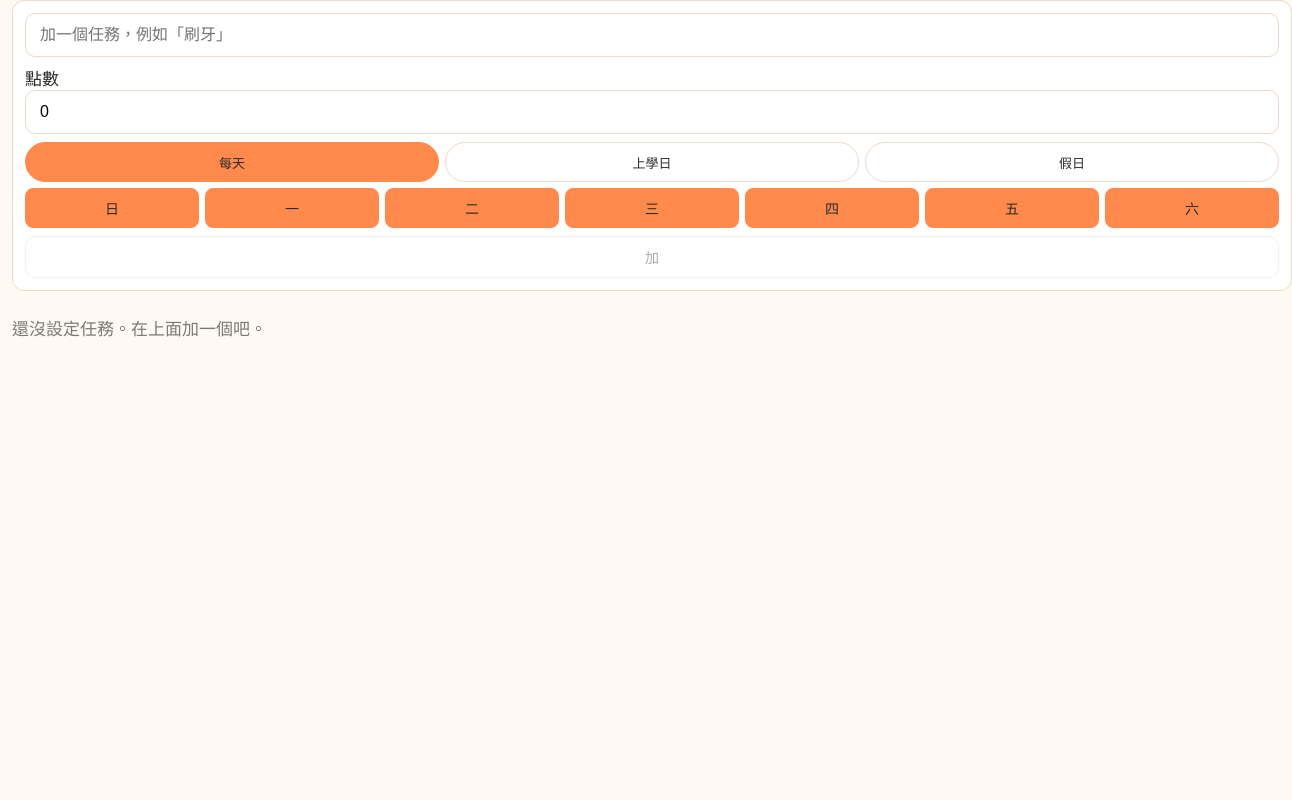
Scenario: TasksPage › adds, edits, and deletes a task (default every-day schedule)
Type "刷牙" into the field named "新任務" at x=652, y=35, box [25,13,1279,57]
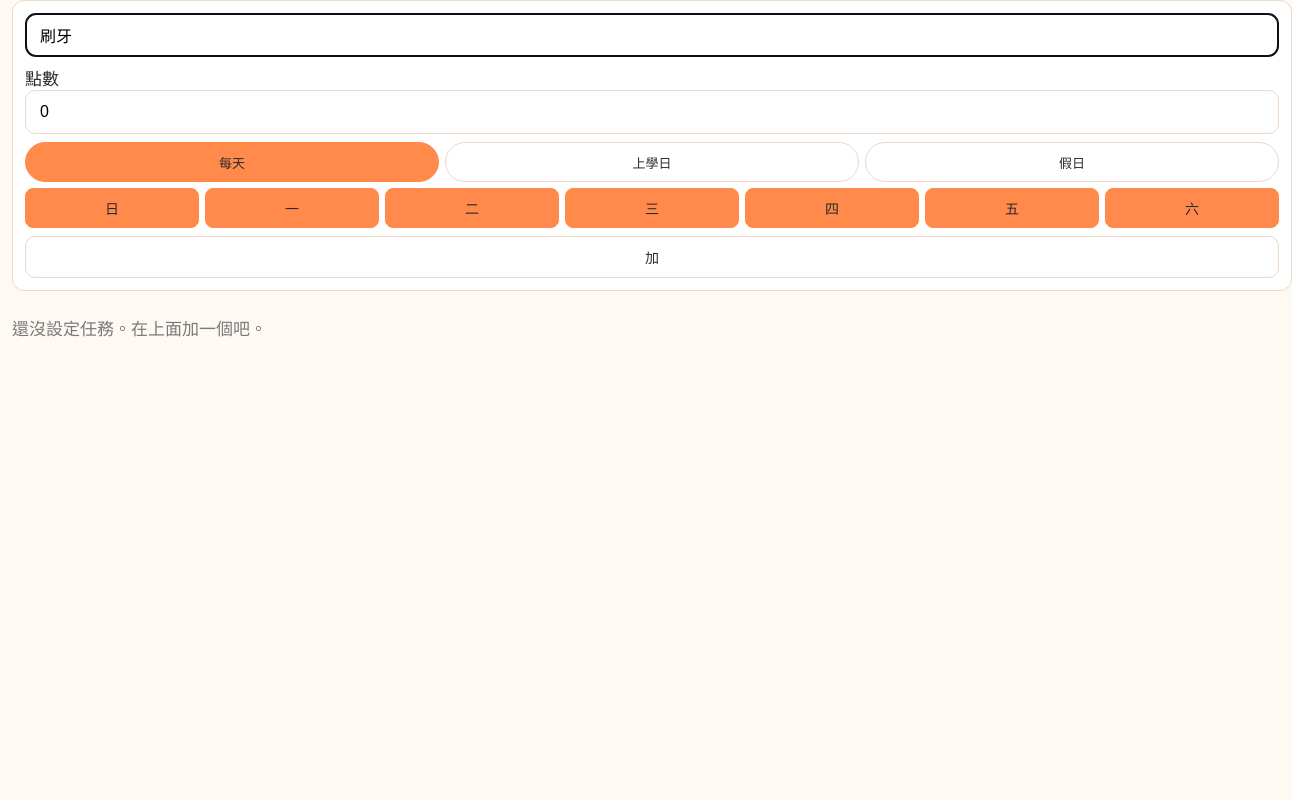
Click the button "加" at x=652, y=257, box [25,236,1279,278]
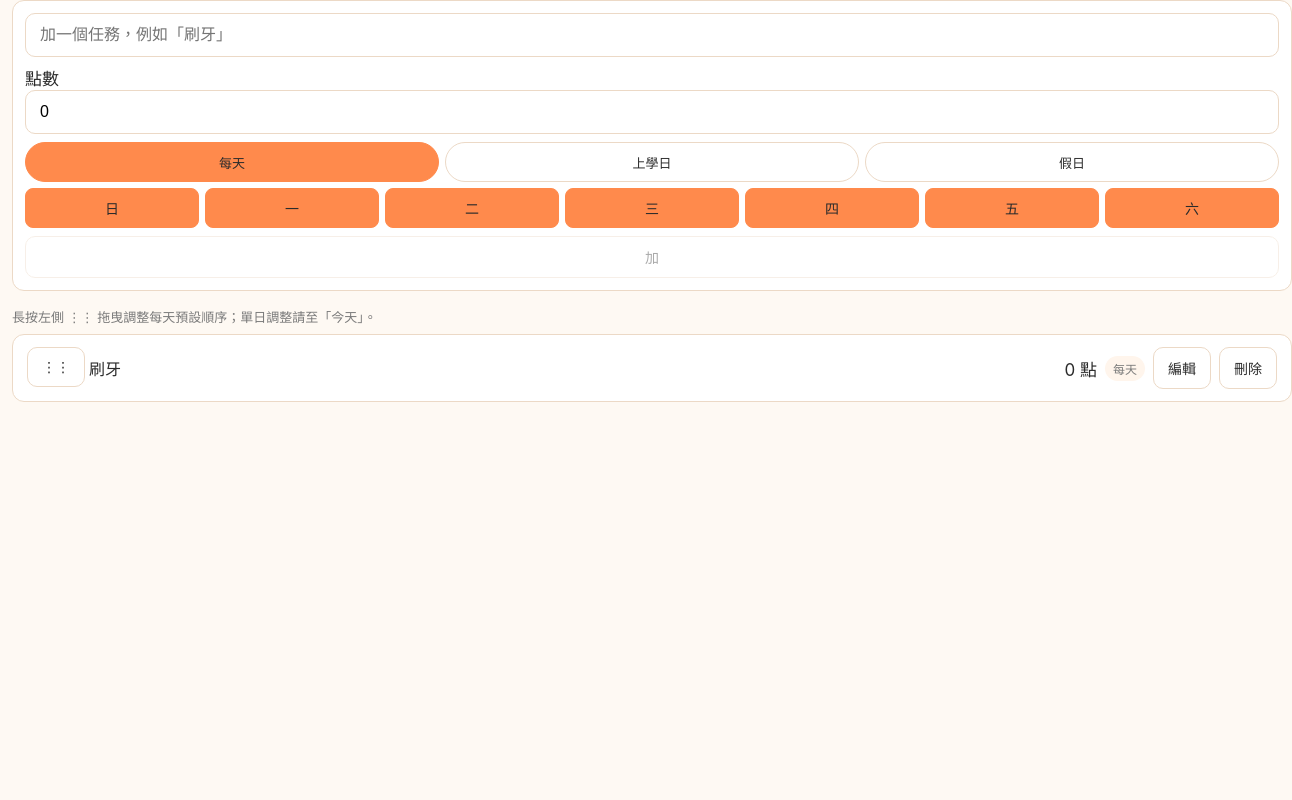
Expected: the text "刷牙" is shown, [89,359,121,379]
Expected: the text named "排程" reads "每天", [1113,362,1137,376]
Expected: the text "還沒設定任務" is gone
Click the button with aria-label "編輯 刷牙" at x=1182, y=368, box [1153,347,1211,389]
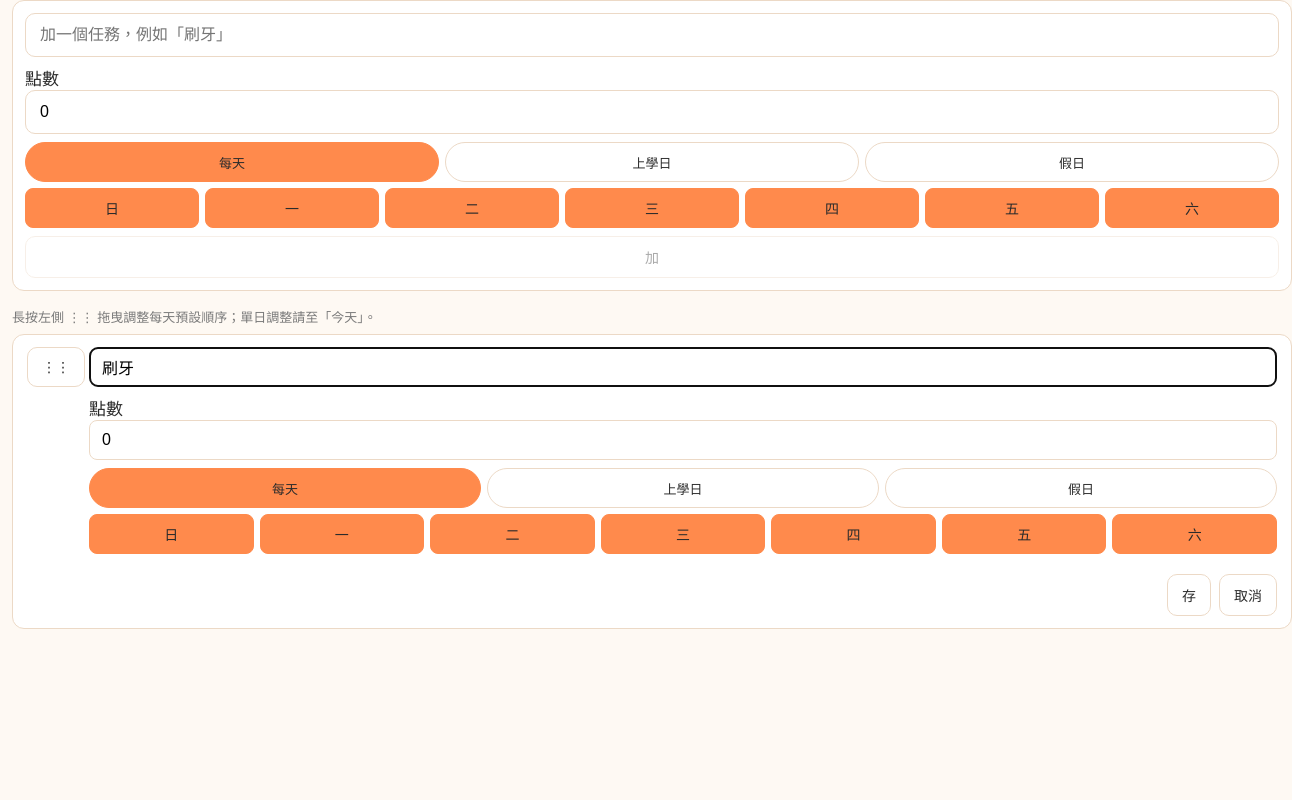
Replace the text in the field named "編輯任務" with "刷牙刷乾淨" at x=683, y=367, box [89,347,1277,387]
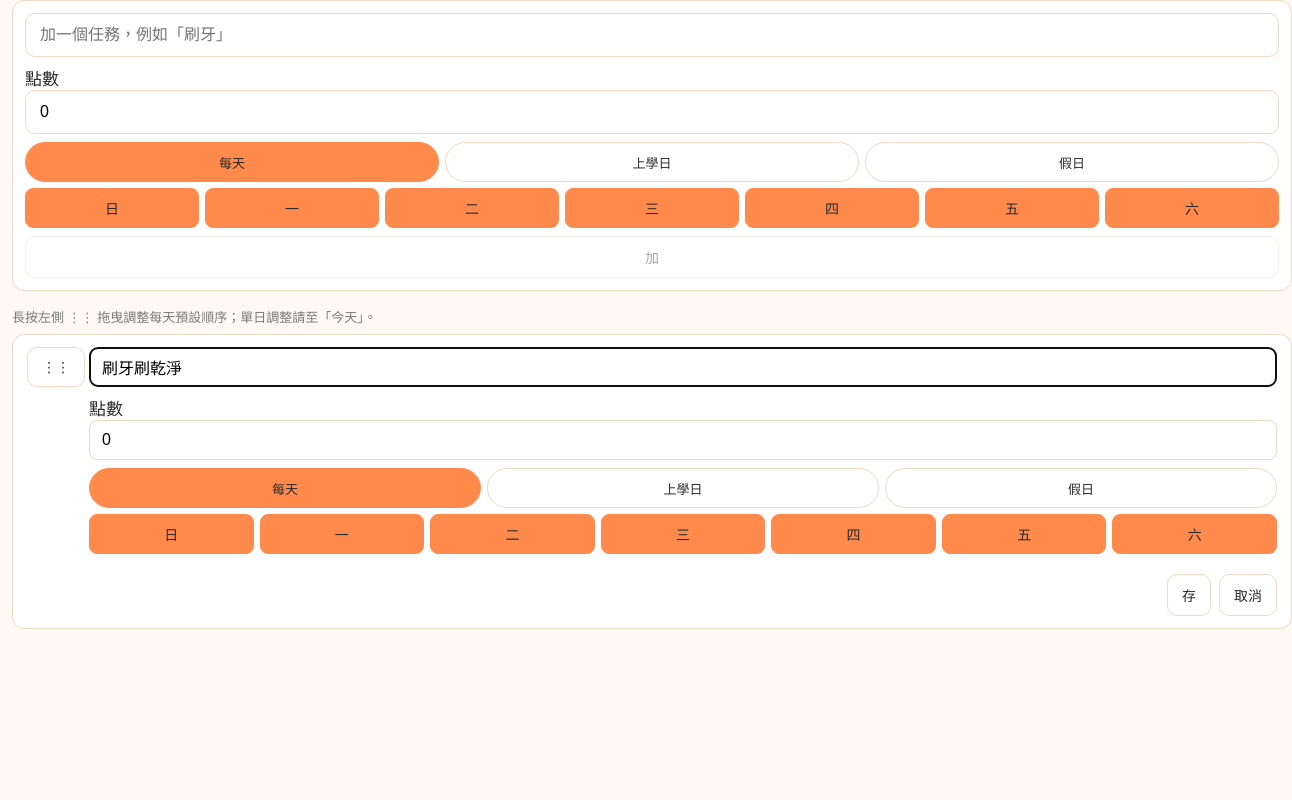
Click the button "存" at x=1189, y=595, box [1167,574,1211,616]
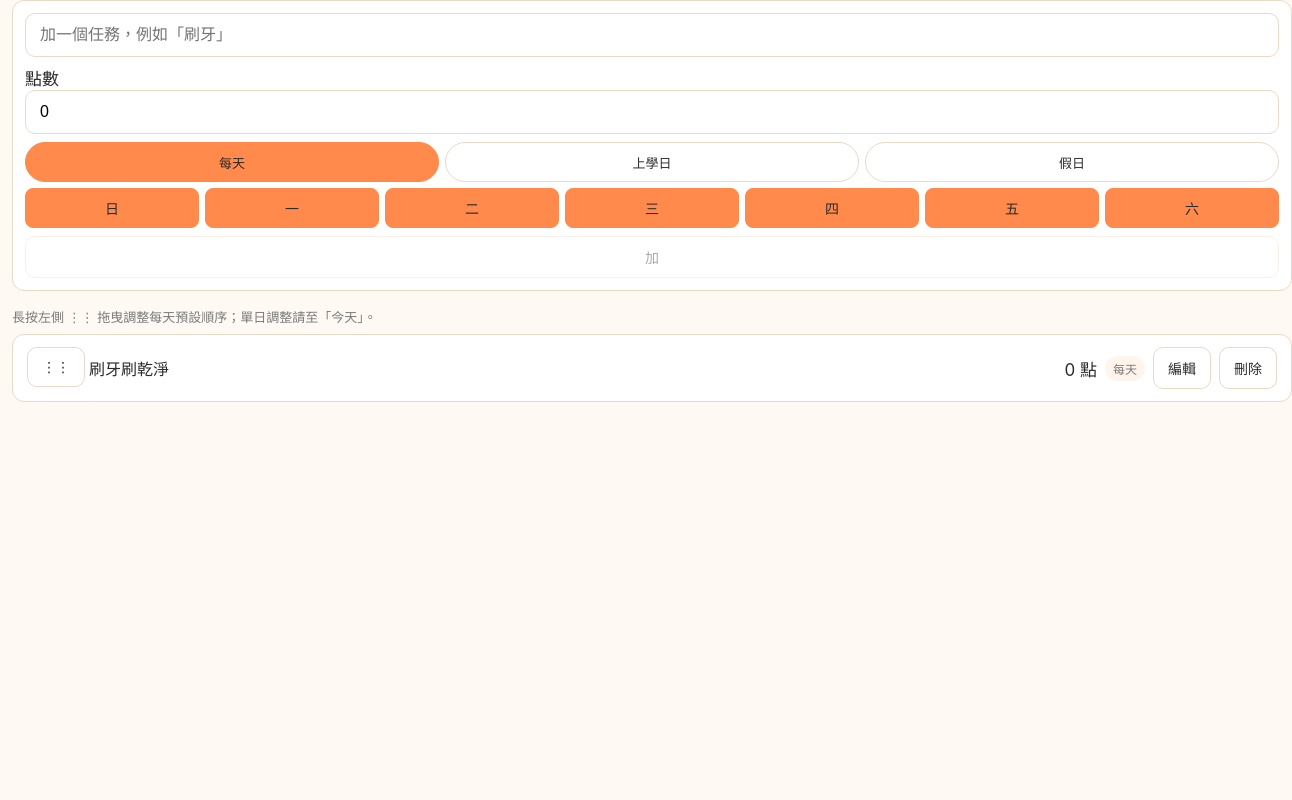
Expected: the text "刷牙刷乾淨" is shown, [89,359,169,379]
Click the button with aria-label "刪除 刷牙刷乾淨" at x=1248, y=368, box [1219,347,1277,389]
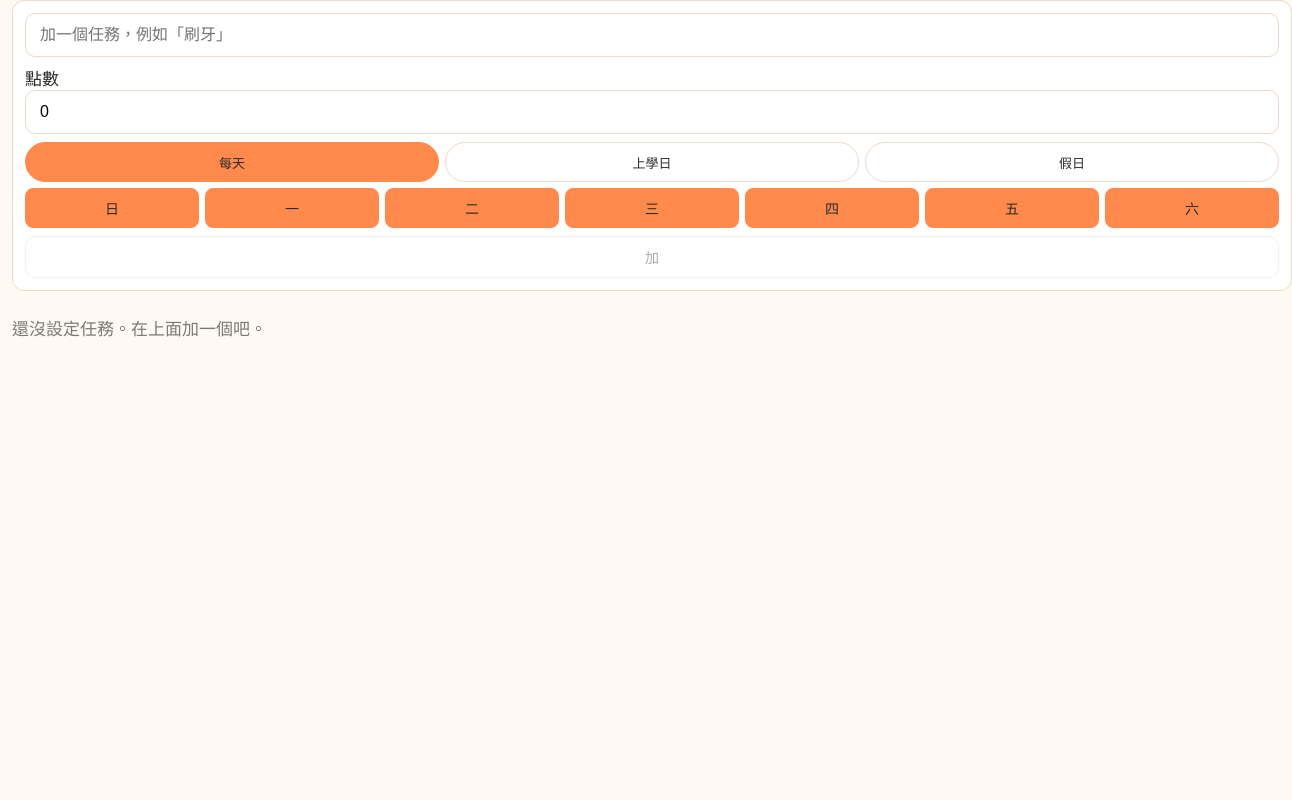
Expected: the text "刷牙刷乾淨" is gone
Expected: the text "還沒設定任務。在上面加一個吧。" is shown, [12,319,267,339]
